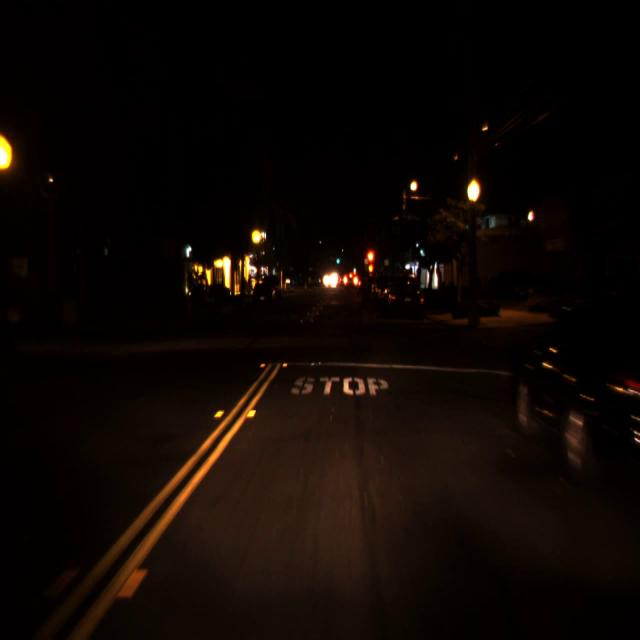go: (336, 253, 340, 266), (352, 264, 356, 272)
go traffic light: (336, 253, 340, 266), (352, 264, 356, 272)
stop: (364, 248, 376, 280)
stop traffic light: (364, 248, 376, 280)
